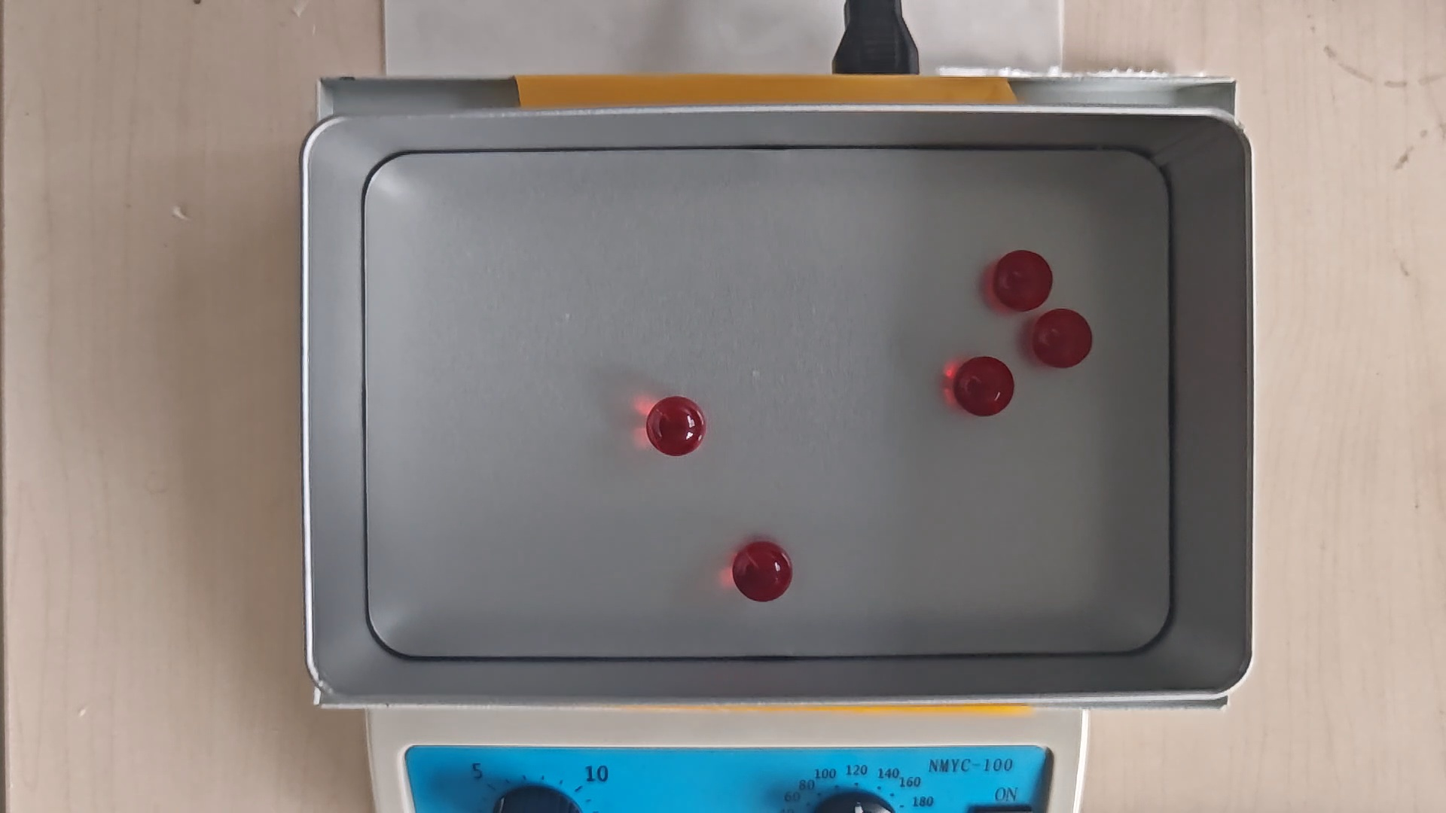ball: (954, 356, 1015, 418), (734, 541, 794, 604), (994, 250, 1051, 312), (648, 397, 704, 456), (1034, 311, 1093, 367)
container: (359, 144, 1174, 660)
